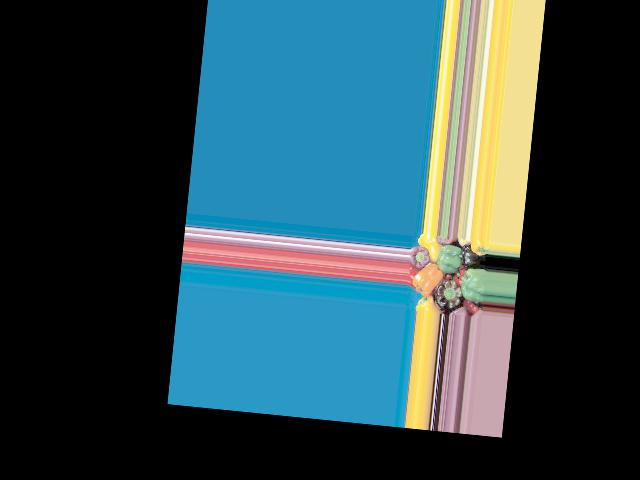bell_pepper: (462, 268, 487, 304)
